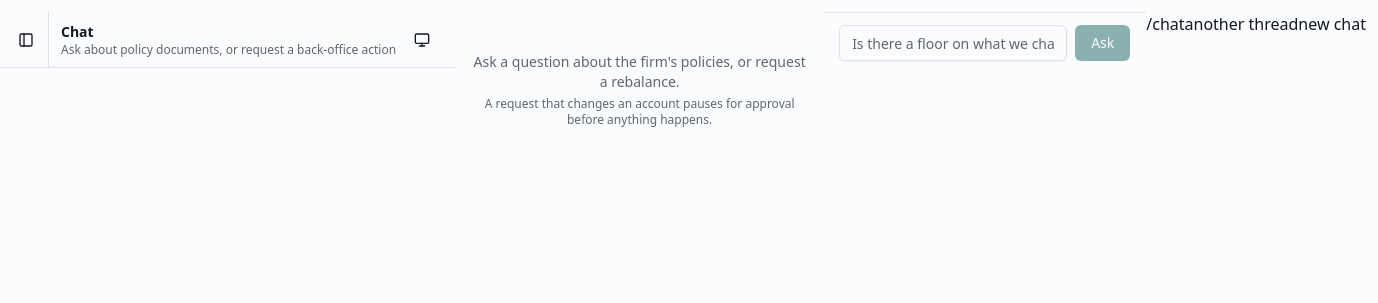
Scenario: ChatPage › replaces the approval with the outcome once decided
Type "Rebalance AC-0042" into the field named "Message" at (953, 43), box [839,25,1067,61]
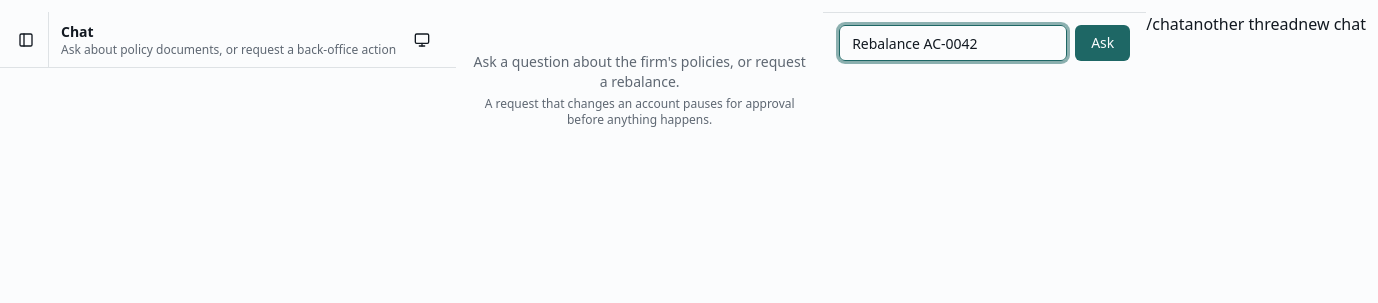
Click the button "Ask" at (1103, 43), box [1075,25,1130,61]
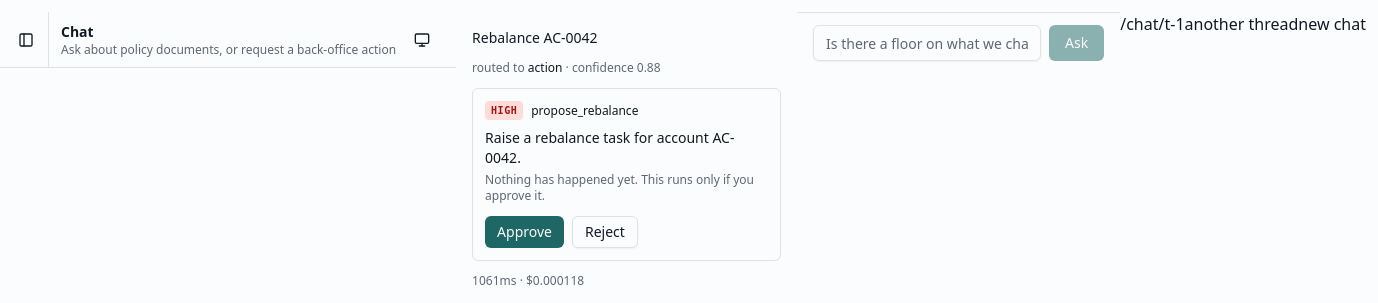
expect the element with test id "approval" is shown: met, box [472,88,781,261]
Click the button "Approve" at (525, 232), box [485,216,564,248]
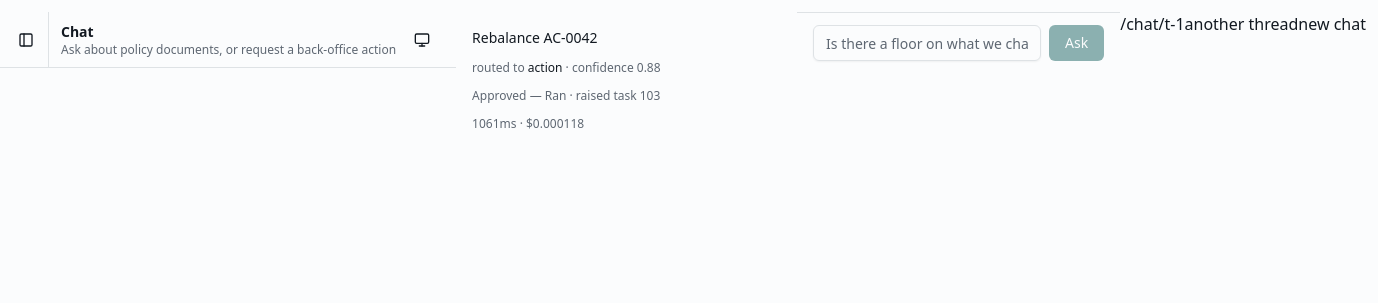
expect the element with test id "decision" is shown: met, box [472,87,660,104]
expect the element with test id "decision" shows "raised task 103": met, box [545,87,660,104]
